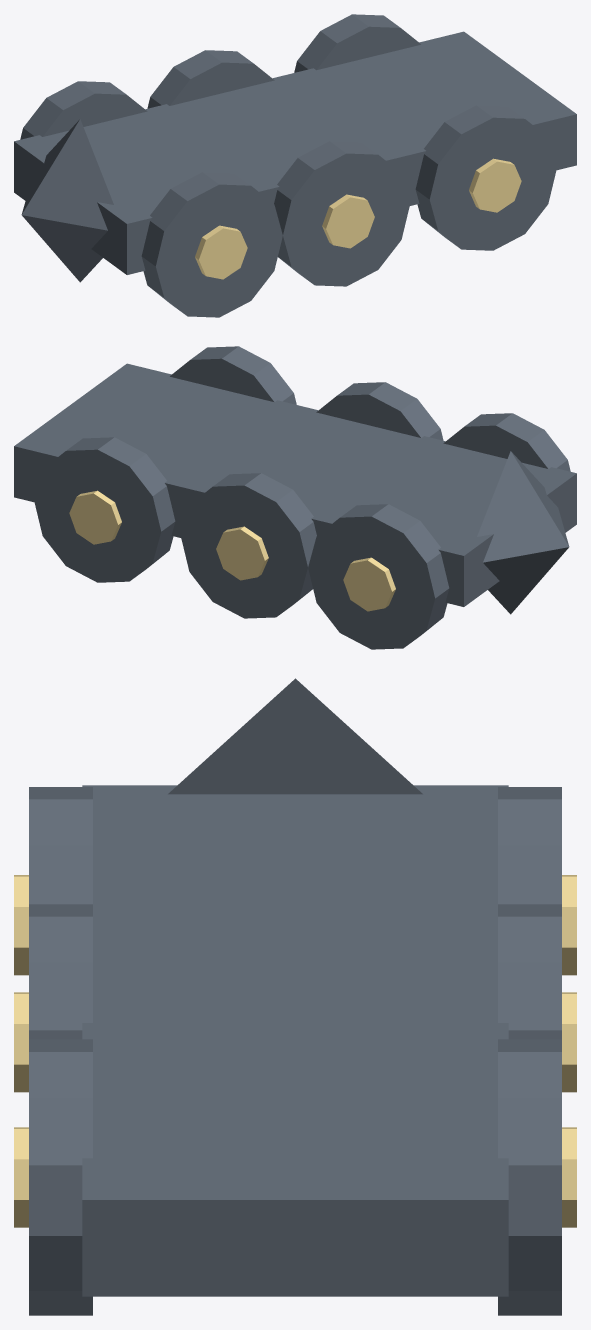
The model's file is toy_train_wheels.glb.
3 views of the same model, one above another, from view 1: azimuth 30°, elevation 25°; view 2: azimuth 150°, elevation 25°; view 3: azimuth 270°, elevation 25° (orthographic). The views are drawn at different scales.
Visible parts, largest first — view 1: Chassis, Hub.-0.15.-1; view 2: Chassis, Hub.-0.15.-1; view 3: Chassis, Hub.-0.15.-1.
Part boxes in pixels (<box>): Chassis: <box>14,14,576,317</box>; Hub.-0.15.-1: <box>195,158,521,279</box>; Chassis: <box>14,346,576,649</box>; Hub.-0.15.-1: <box>69,490,395,611</box>; Chassis: <box>29,678,561,1315</box>; Hub.-0.15.-1: <box>14,875,576,1227</box>.
Bounding box in the file's own units: 0.51 × 0.16 × 0.264.
